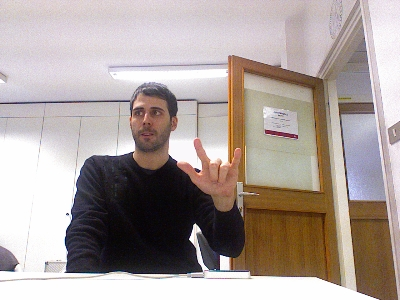我爱你: (175, 137, 242, 199)
